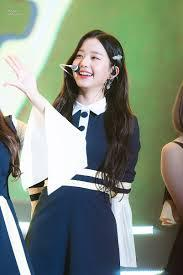earphone: (108, 69, 119, 76)
